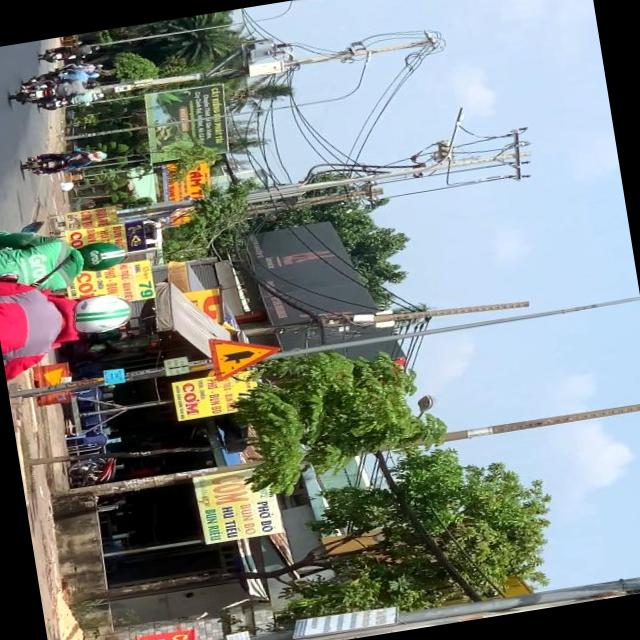W-207b: (207, 330, 287, 382)
